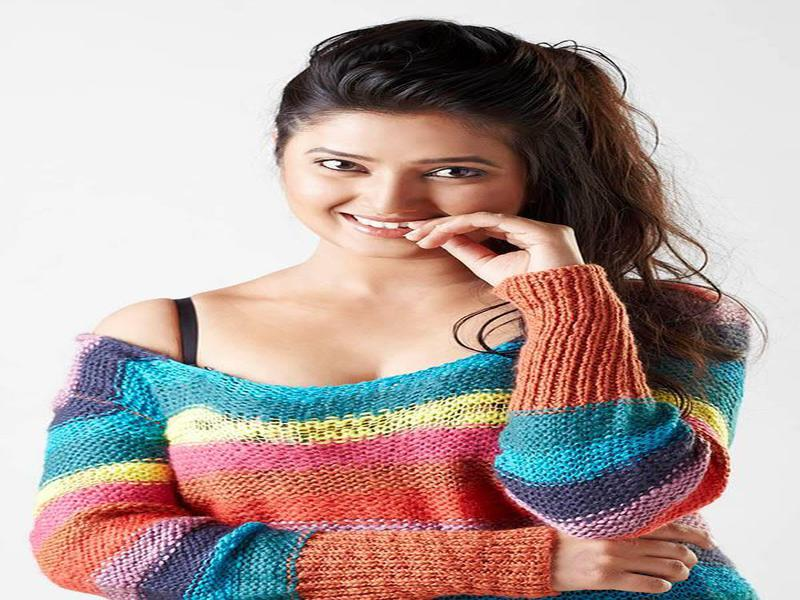without_mask: (280, 102, 525, 263)
